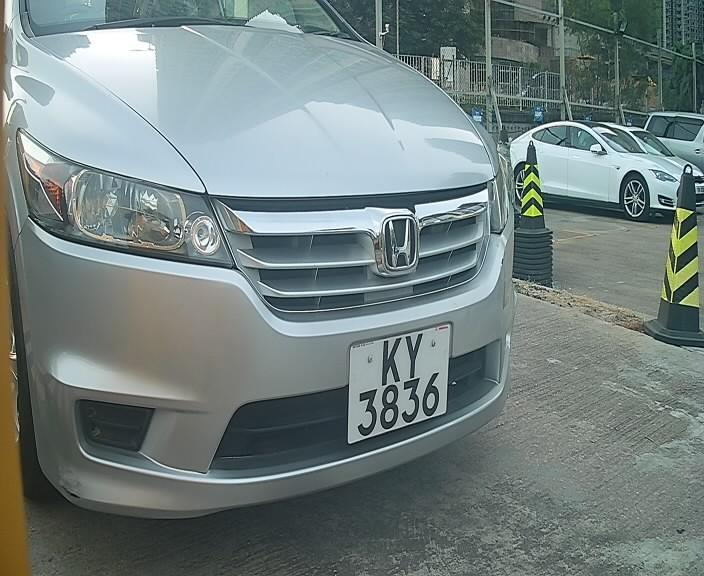License Plate: (340, 314, 456, 448)
